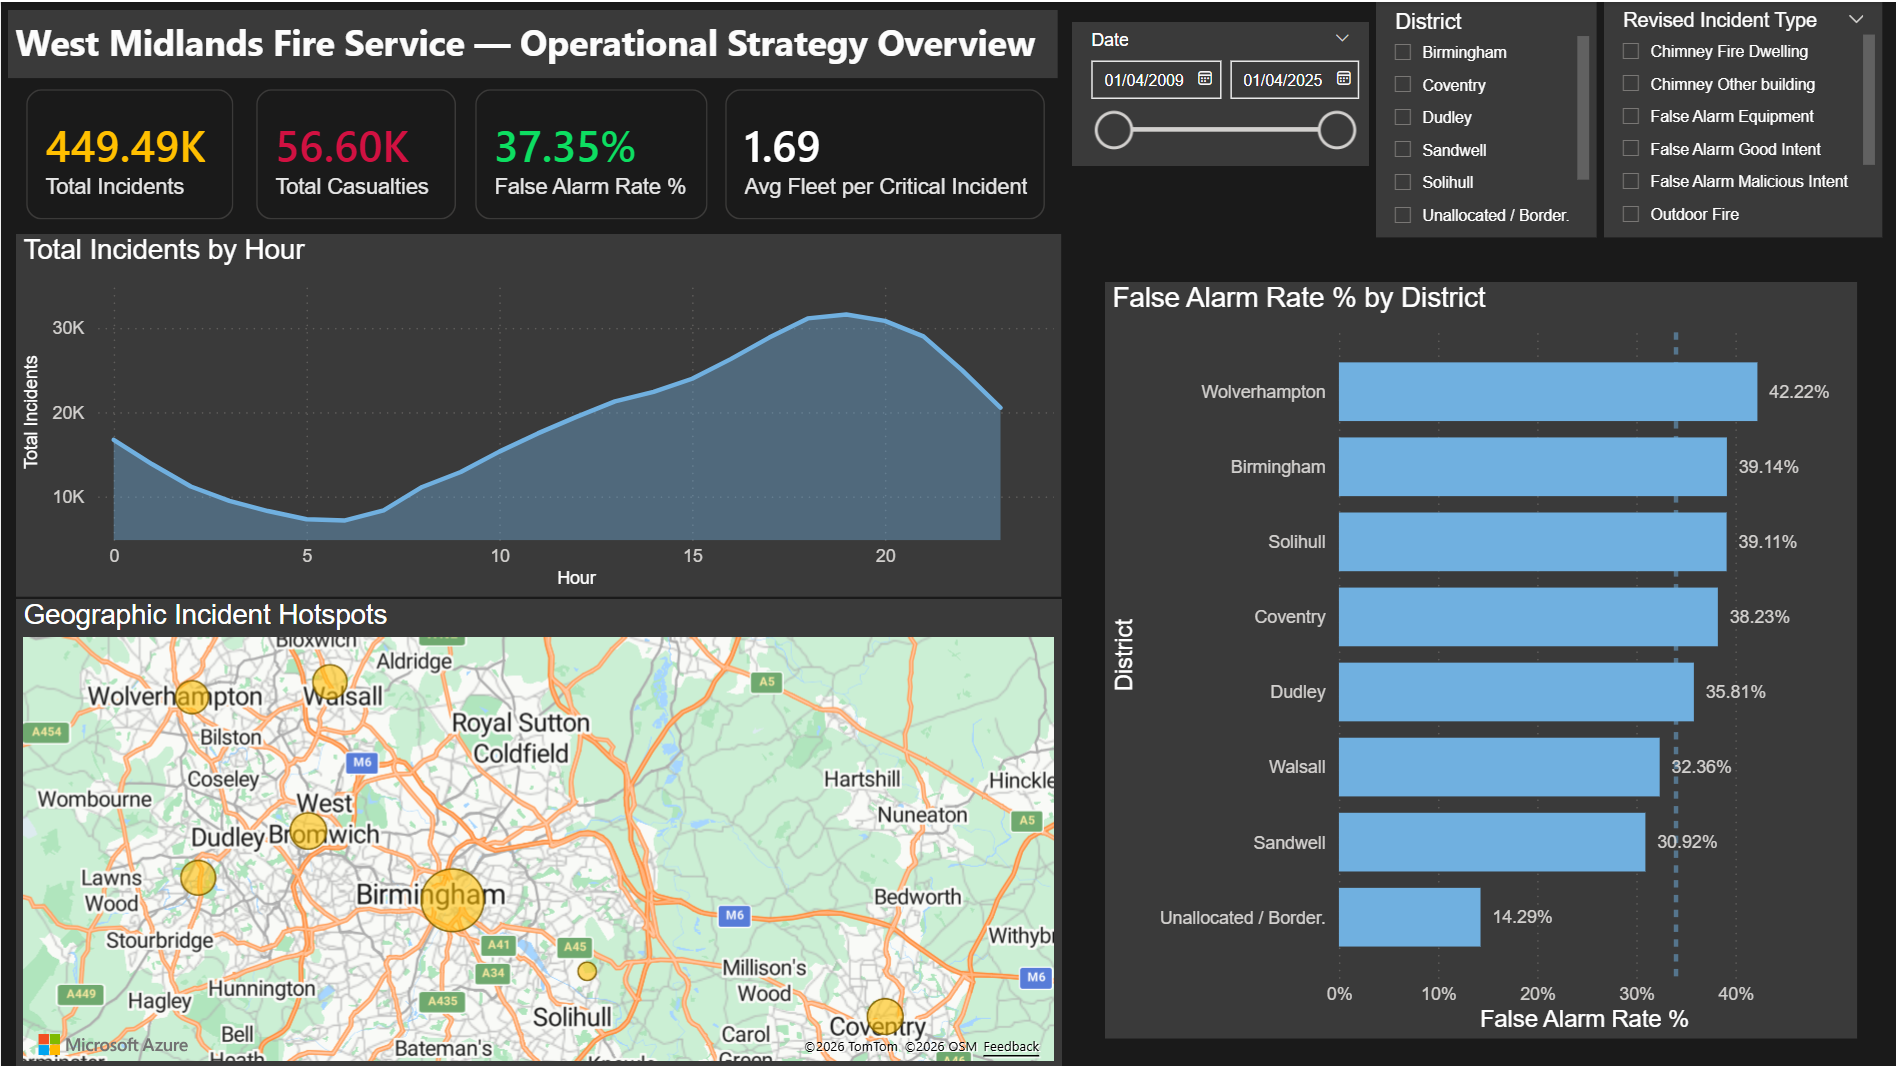

What the dashboard file says about the page in this screenshot:
{"tool":"powerbi","page":{"name":"Executive Strategy","canvas":[1280,720],"ordinal":0},"visuals":[{"type":"cardVisual","fields":{"Data":["_Measures.Total Incidents"]},"box":[0,41.9,174.1,122.4],"z":0},{"type":"cardVisual","fields":{"Data":["_Measures.False Alarm Rate %"]},"box":[303,41.9,191.1,122.4],"z":1000},{"type":"cardVisual","fields":{"Data":["_Measures.Total Casualties"]},"box":[155.1,41.9,169.5,122.4],"z":2000},{"type":"cardVisual","fields":{"Data":["_Measures.Avg Fleet per Critical Incident"]},"box":[472.5,41.9,250.6,122.4],"z":3000},{"type":"azureMap","title":"Geographic Incident Hotspots","fields":{"Category":["wmfs-incidents.District"],"Y":["Avg(wmfs-incidents.Latitude)"],"X":["Avg(wmfs-incidents.Longitude)"],"Size":["_Measures.Total Incidents"]},"box":[9.8,403.3,706.1,316.7],"z":4000},{"type":"areaChart","fields":{"Y":["_Measures.Total Incidents"],"Category":["wmfs-incidents.Hour"]},"box":[9.8,156.4,706.1,244.7],"z":5000},{"type":"slicer","fields":{"Values":["wmfs-incidents.Date"]},"box":[723.1,13.7,200.2,96.9],"z":6000},{"type":"slicer","fields":{"Values":["wmfs-incidents.District"]},"box":[928.6,0,149.2,159],"z":7000},{"type":"slicer","fields":{"Values":["wmfs-incidents.Revised Incident Type"]},"box":[1083,0,188.5,159],"z":8000},{"type":"clusteredBarChart","fields":{"Category":["wmfs-incidents.District"],"Y":["_Measures.False Alarm Rate %"]},"box":[746,189.1,507.8,511.1],"z":9000},{"type":"textbox","box":[4.6,5.2,709.4,45.8],"z":10000}]}

Visuals, with their boxes in screenshot pixels (x1, y1, x2, y2), scaled from the page's 1280x720 canvas onto the 1896x1066 screenshot:
cardVisual - _Measures.Total Incidents: box(0, 62, 258, 243)
cardVisual - _Measures.False Alarm Rate %: box(449, 62, 732, 243)
cardVisual - _Measures.Total Casualties: box(230, 62, 481, 243)
cardVisual - _Measures.Avg Fleet per Critical Incident: box(700, 62, 1071, 243)
"Geographic Incident Hotspots" azureMap: box(15, 597, 1060, 1065)
areaChart - _Measures.Total Incidents x wmfs-incidents.Hour: box(15, 232, 1060, 594)
slicer - wmfs-incidents.Date: box(1071, 20, 1368, 164)
slicer - wmfs-incidents.District: box(1375, 0, 1596, 235)
slicer - wmfs-incidents.Revised Incident Type: box(1604, 0, 1883, 235)
clusteredBarChart - wmfs-incidents.District x _Measures.False Alarm Rate %: box(1105, 280, 1857, 1037)
textbox: box(7, 8, 1058, 76)
